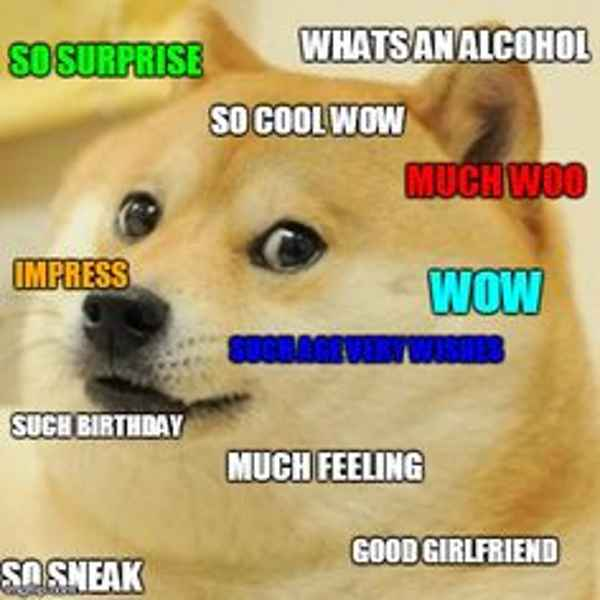doge: (54, 28, 539, 533)
